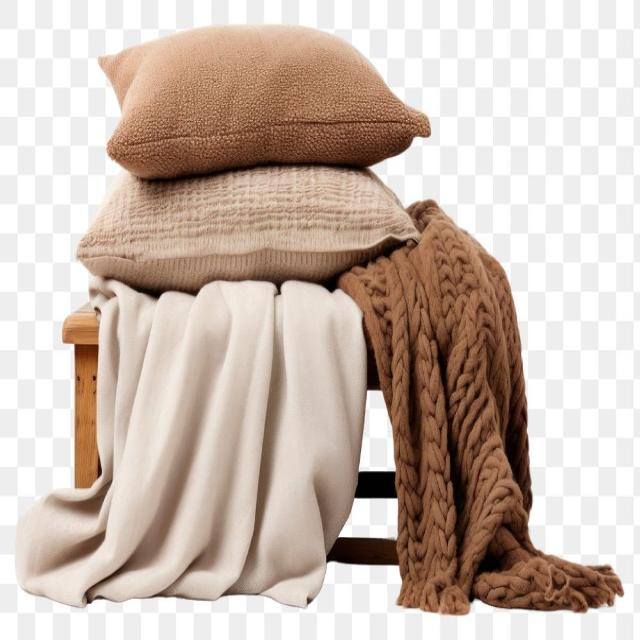blanket: (340, 202, 625, 615), (16, 277, 367, 606)
